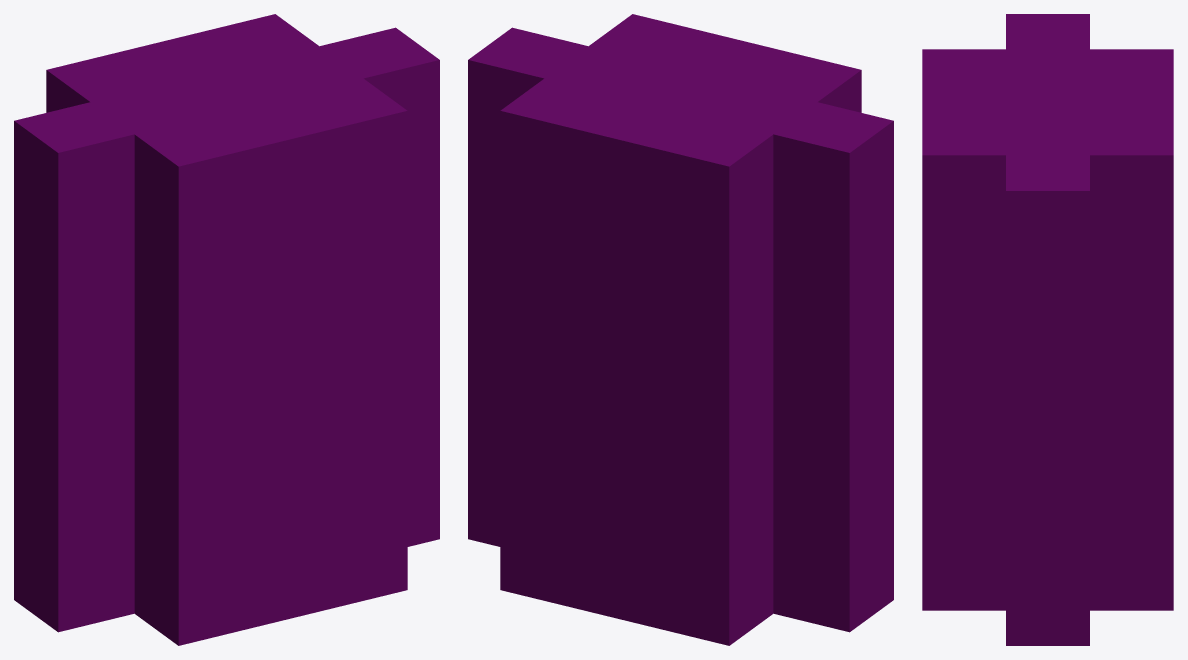
The model's file is cristais-4.obj.
3 renders of one model, left to right at view 1: azimuth 30°, elevation 25°; view 2: azimuth 150°, elevation 25°; view 3: azimuth 270°, elevation 25°, orthographic. The views are drawn at different scales.
Size of the model in its own units: 0.5 by 0.6 by 0.3.
Materials: 1 (1 with a texture image).
